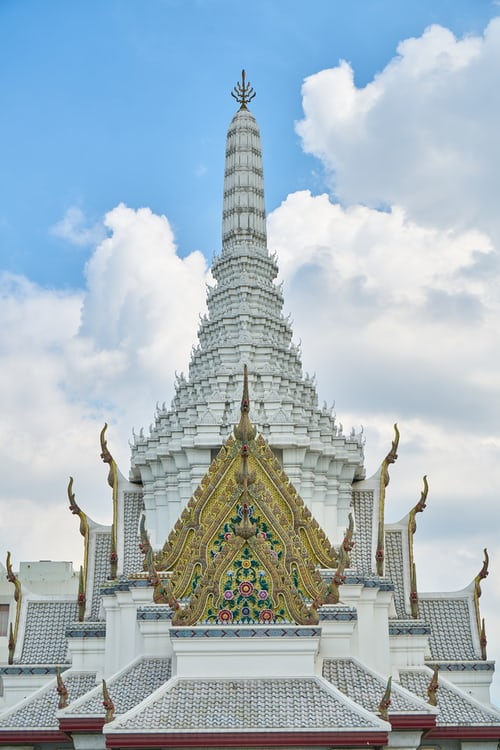Temple: (61, 75, 469, 656)
